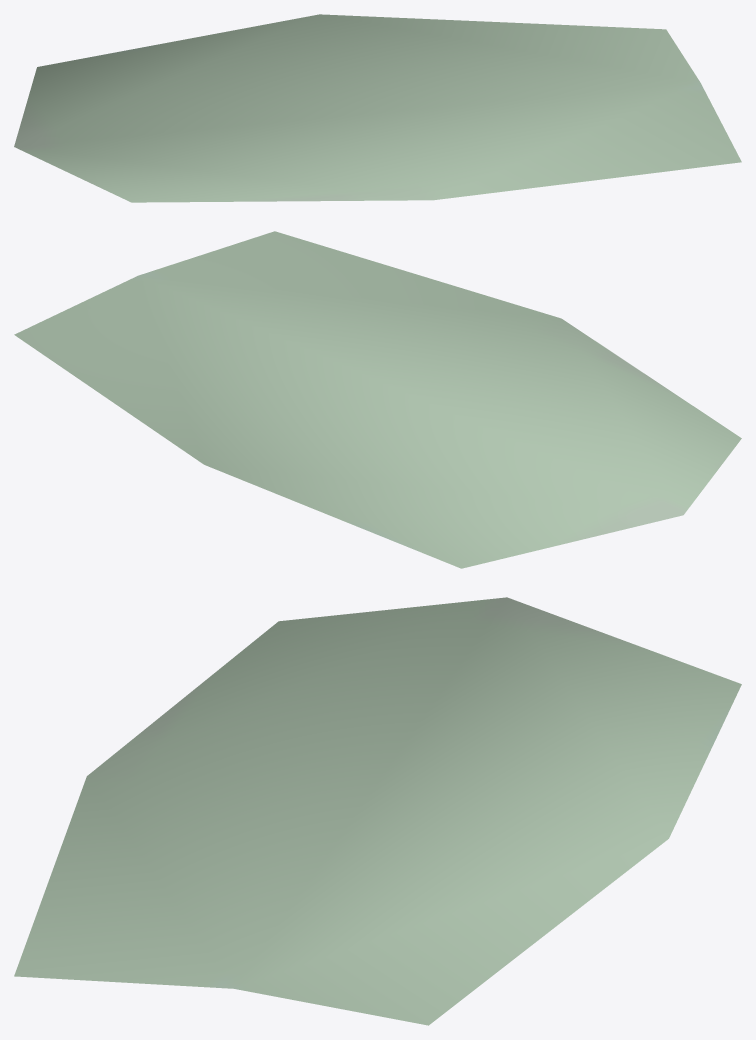
File: TROLLHOLE02_HOLECAP160.fbx
3 views of the same model, one above another, from view 1: azimuth 30°, elevation 25°; view 2: azimuth 150°, elevation 25°; view 3: azimuth 270°, elevation 25° (orthographic). The views are drawn at different scales.
Parts seen in each view (by area): view 1: TROLLHOLE02_HOLECAP160; view 2: TROLLHOLE02_HOLECAP160; view 3: TROLLHOLE02_HOLECAP160.
Part boxes in pixels (bbox=[...]): TROLLHOLE02_HOLECAP160: bbox=[14, 14, 741, 202]; TROLLHOLE02_HOLECAP160: bbox=[14, 231, 741, 568]; TROLLHOLE02_HOLECAP160: bbox=[14, 597, 741, 1025].
Size of the model in its own units: 35345 by 797 by 26490.
1 material, 1 textured.
